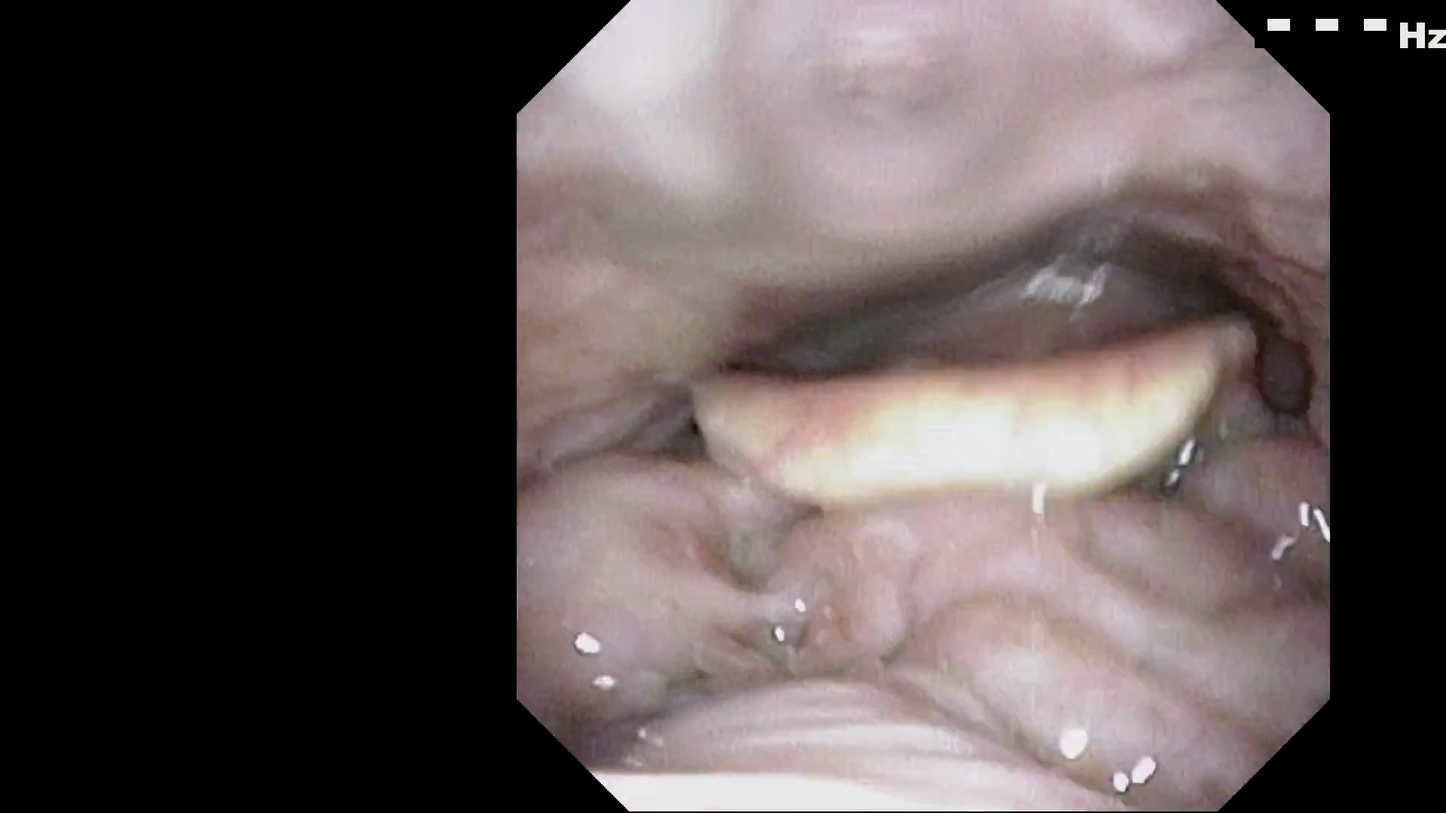epiglottis: (691, 353, 1280, 539)
